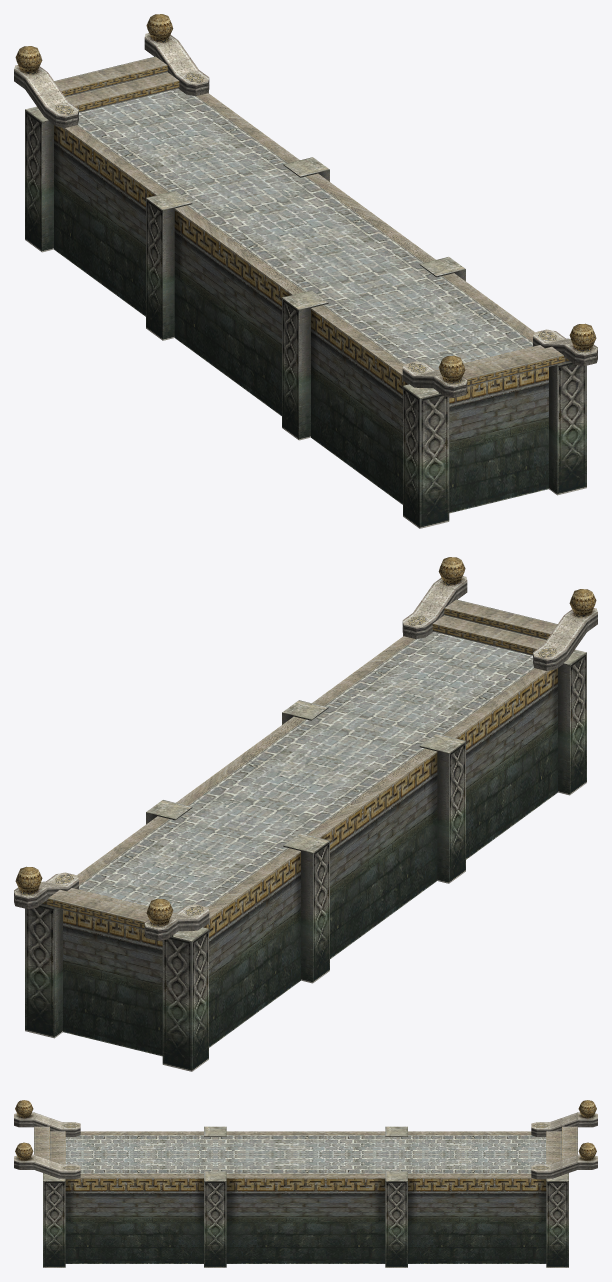
The model's file is otherworld_bridge_02.glb.
3 views of the same model, one above another, from view 1: azimuth 30°, elevation 25°; view 2: azimuth 150°, elevation 25°; view 3: azimuth 270°, elevation 25° (orthographic). The views are drawn at different scales.
Parts seen in each view (by area): view 1: otherworld_bridge_02; view 2: otherworld_bridge_02; view 3: otherworld_bridge_02.
Part boxes in pixels (x1,y1,x2,y2): otherworld_bridge_02: (14,14,597,528); otherworld_bridge_02: (14,557,597,1071); otherworld_bridge_02: (14,1100,597,1267).
Bounding box in the file's own units: 8.5 × 8.7 × 38.66.
Materials: 2 (2 with a texture image).
